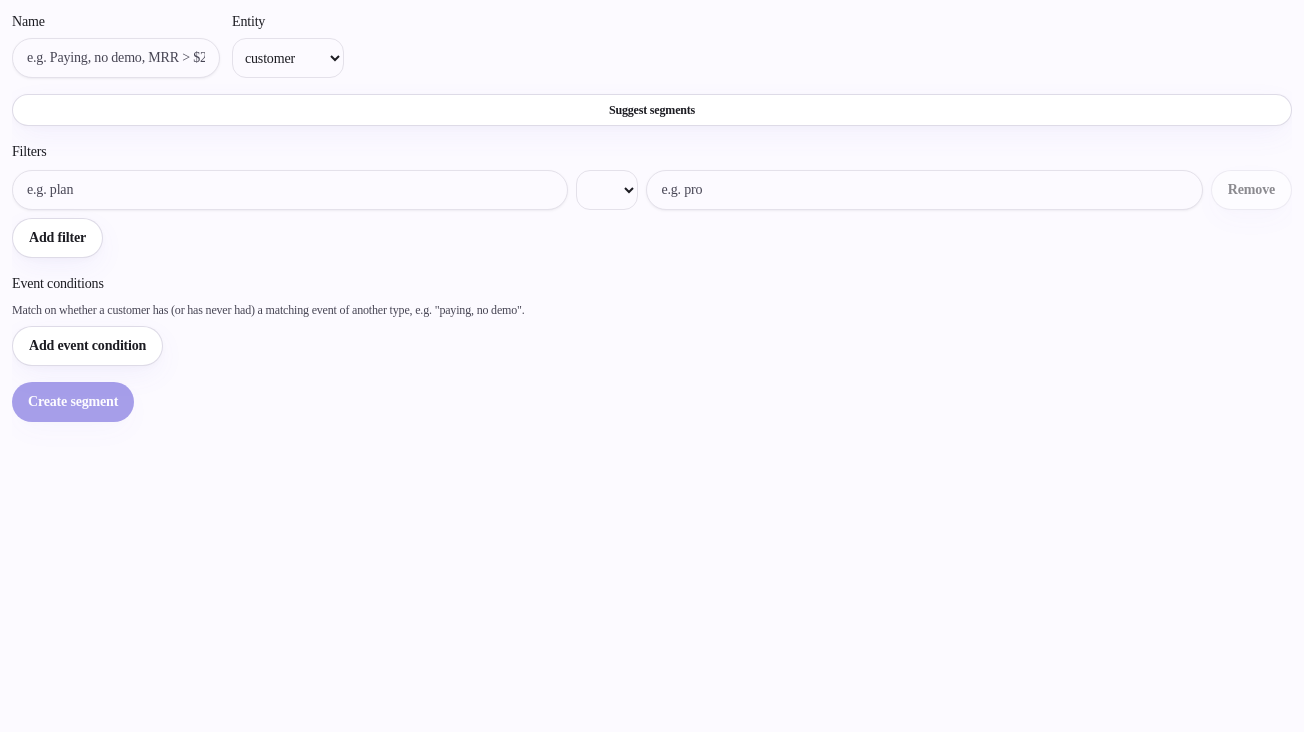
Test: CreateSegmentForm › disables submit until every nested event-condition filter row is filled
In the field labelled "Name": (116, 58) x1=12 y1=38 x2=220 y2=78, type "X"
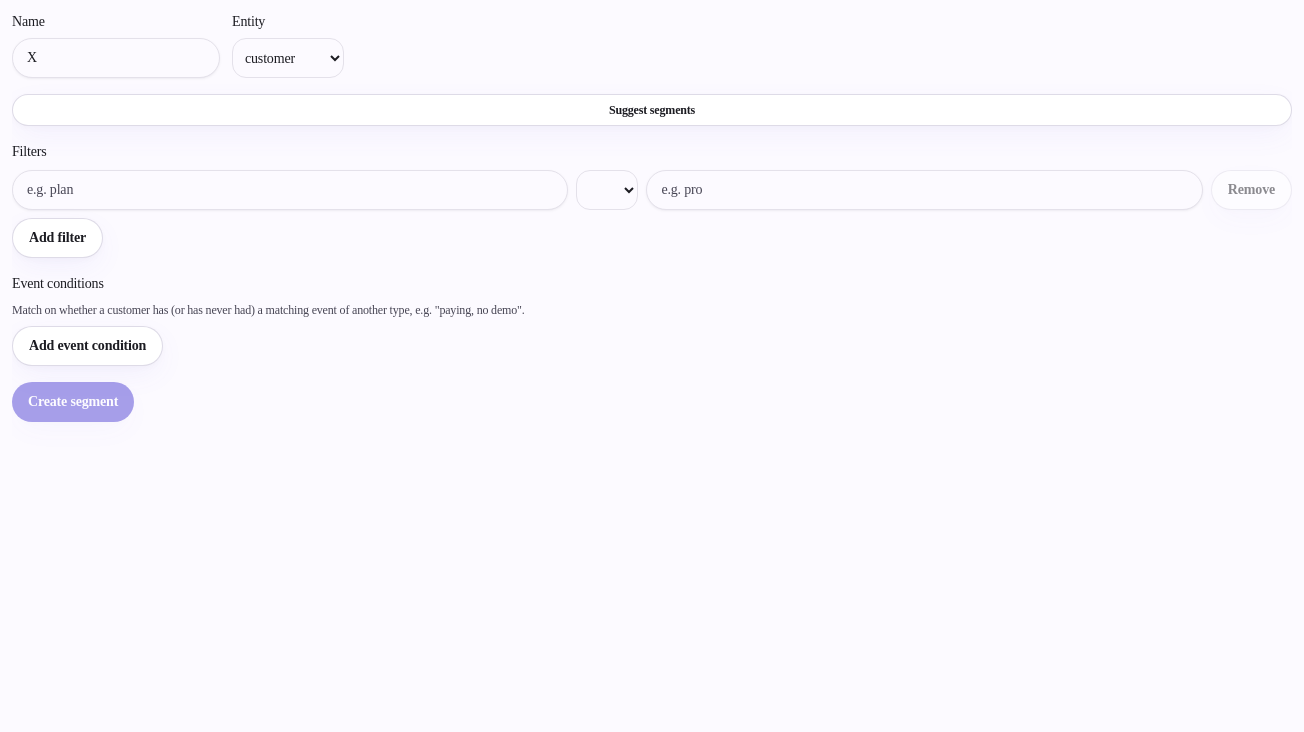
Click the button "Add event condition": (88, 346) x1=12 y1=326 x2=163 y2=366
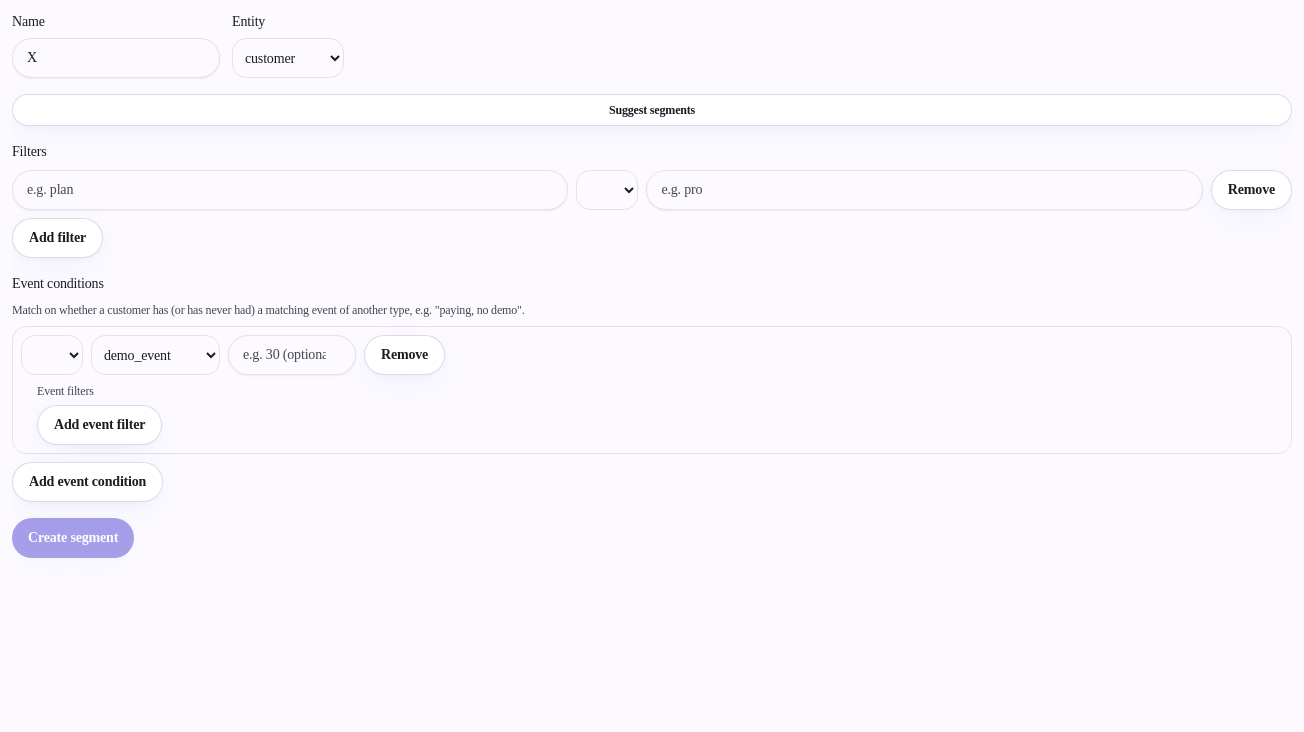
Click the 1st button "Remove": (1251, 190) x1=1211 y1=170 x2=1292 y2=210
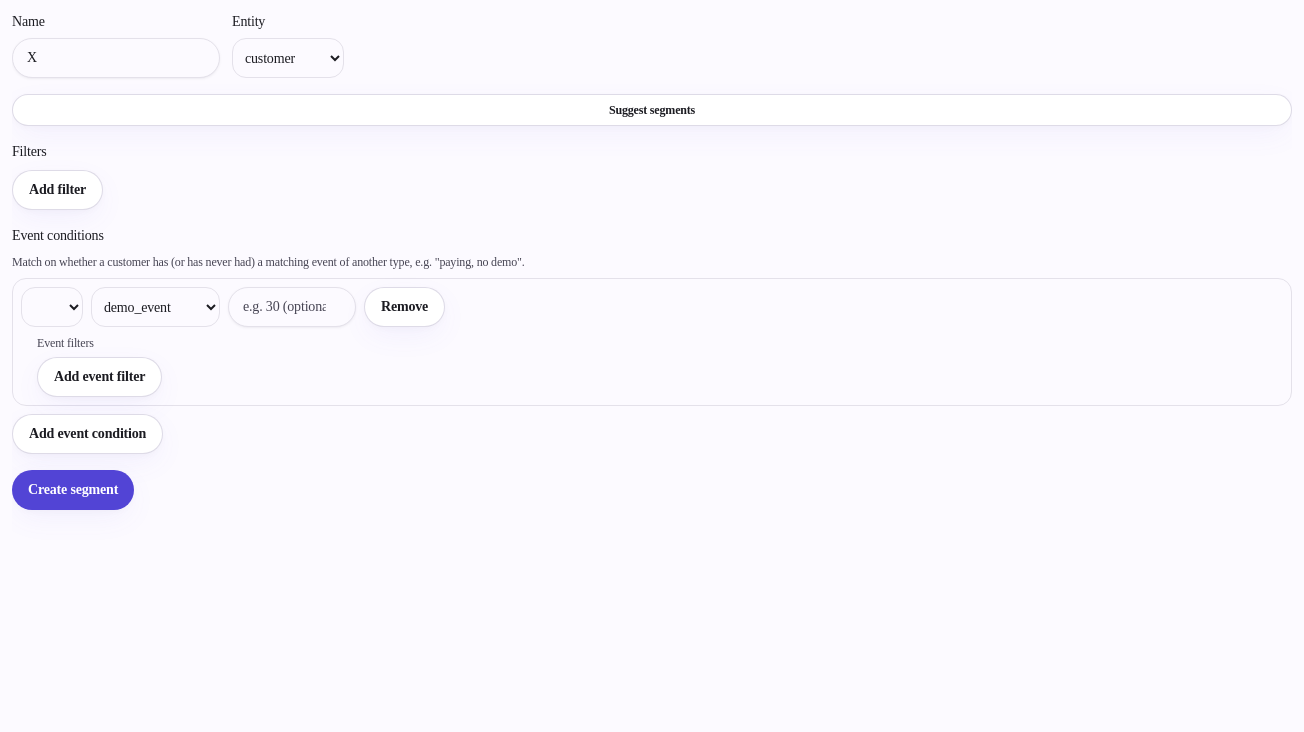
Now the button "Create segment" is enabled, box x1=12 y1=470 x2=134 y2=510
Click the button "Add event filter": (100, 377) x1=37 y1=357 x2=162 y2=397
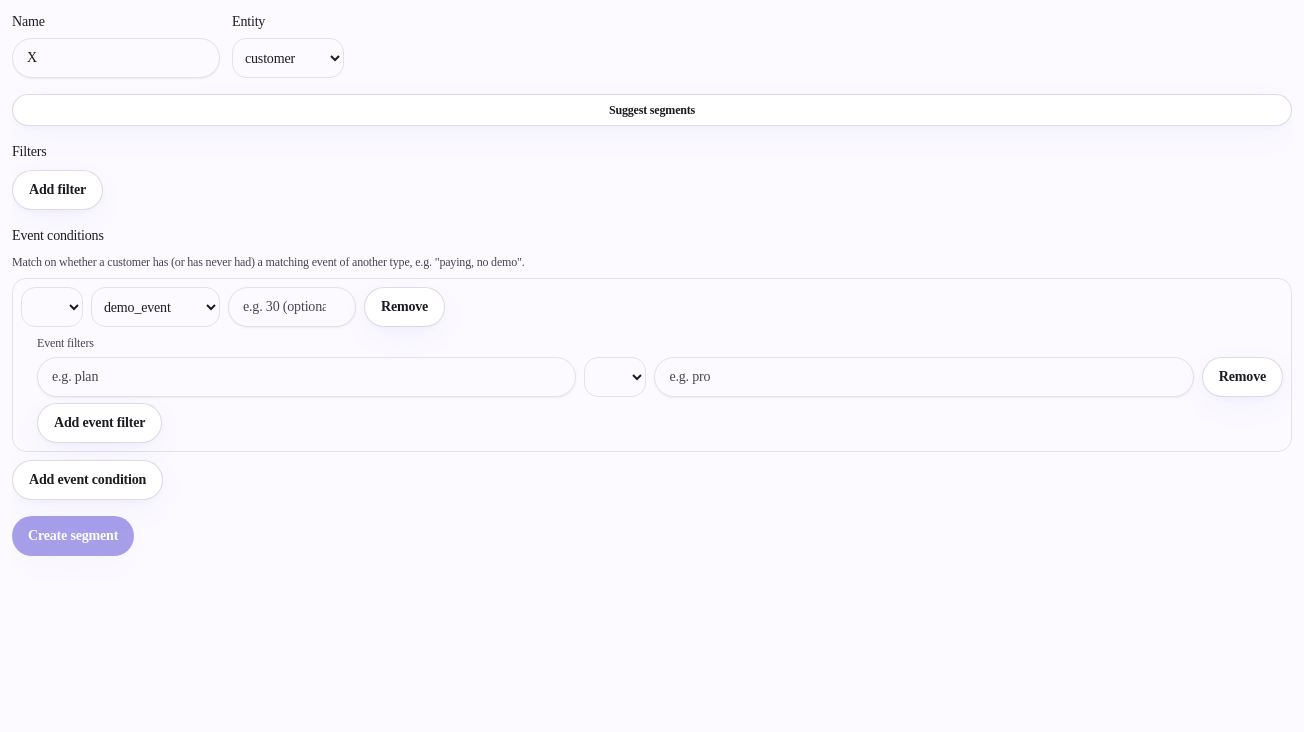
Now the button "Create segment" is disabled, box x1=12 y1=516 x2=134 y2=556
In the field named "Event filter field": (307, 377) x1=37 y1=357 x2=576 y2=397, type "is_paid"
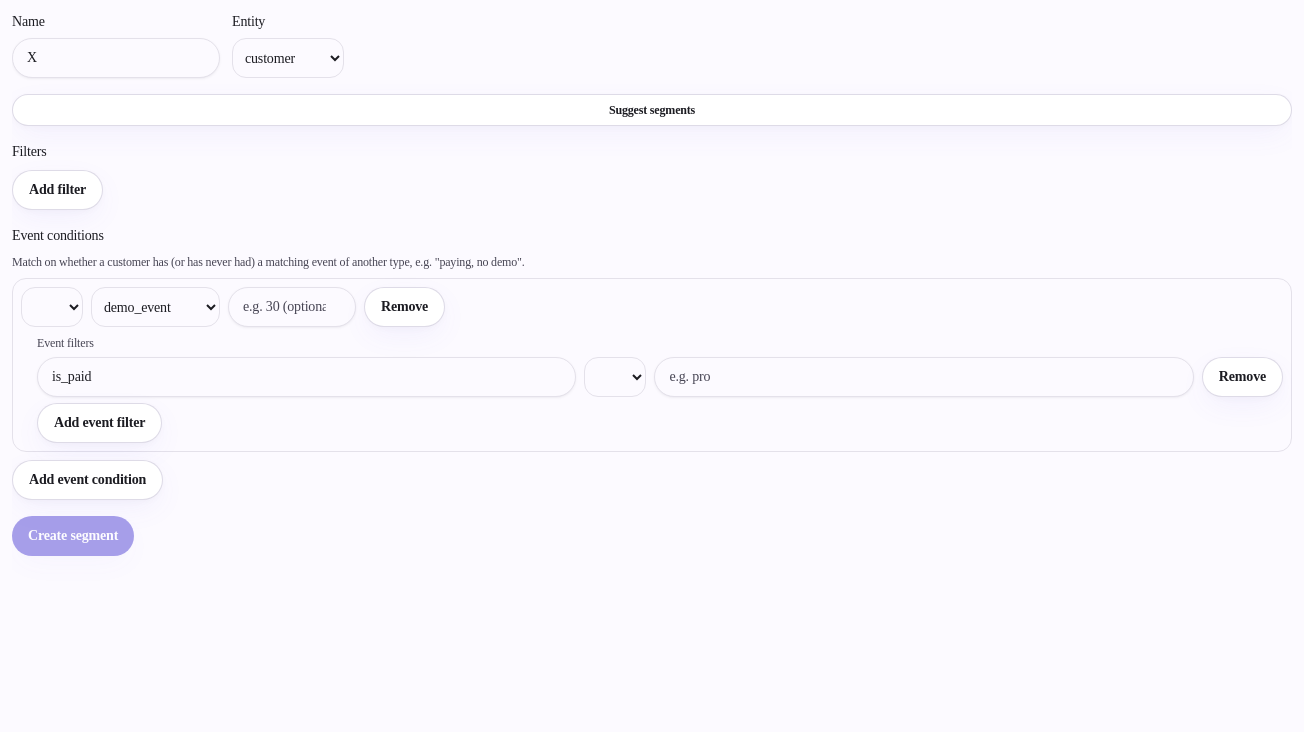
Now the button "Create segment" is disabled, box x1=12 y1=516 x2=134 y2=556
In the field named "Event filter value": (924, 377) x1=654 y1=357 x2=1194 y2=397, type "true"
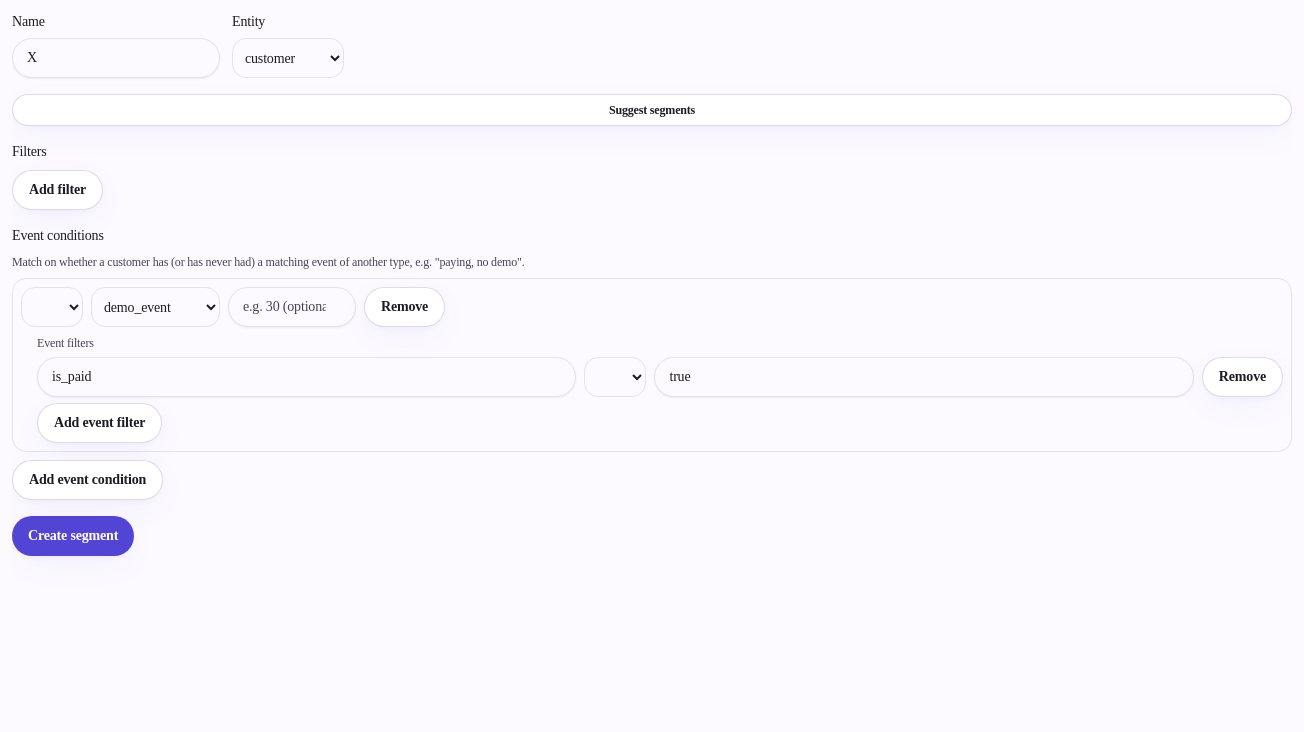
Now the button "Create segment" is enabled, box x1=12 y1=516 x2=134 y2=556
